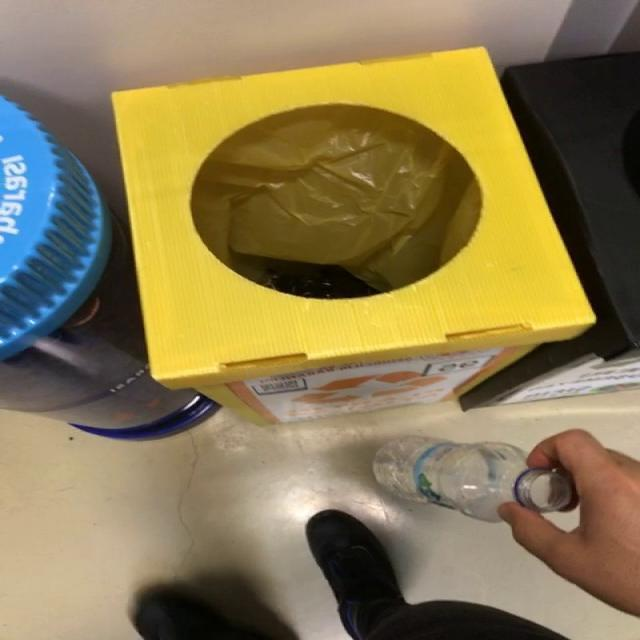Plastic: (373, 437, 573, 522)
